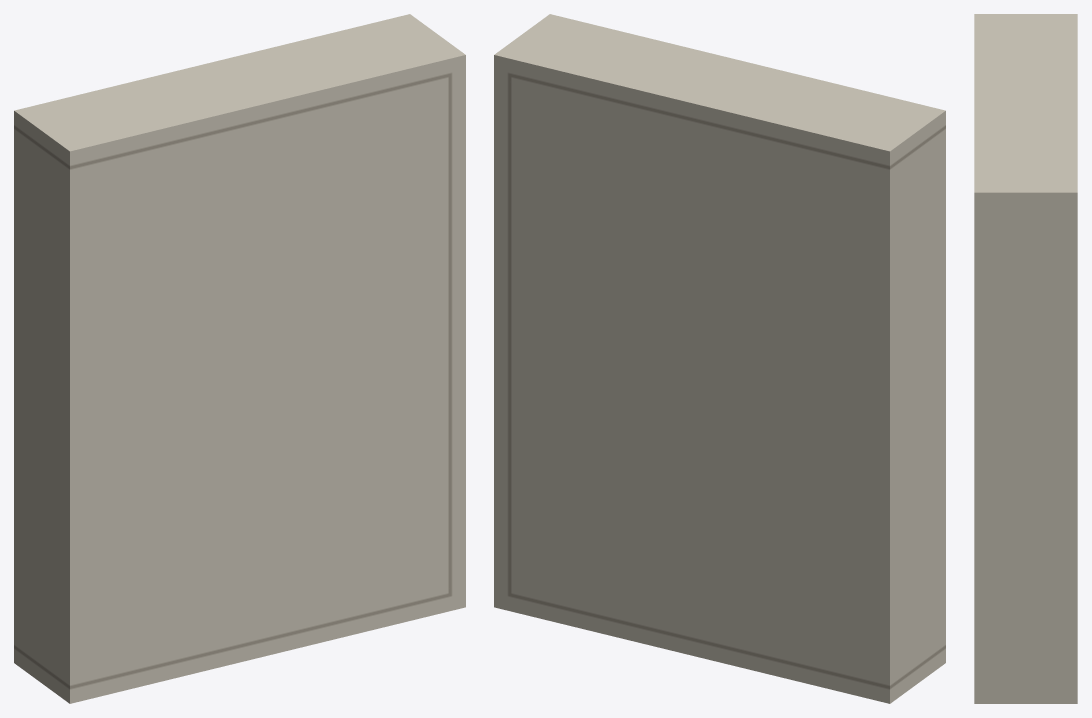
3 views of the same model, side by side, from view 1: azimuth 30°, elevation 25°; view 2: azimuth 150°, elevation 25°; view 3: azimuth 270°, elevation 25° (orthographic). The views are drawn at different scales.
Parts seen in each view (by area): view 1: gb_box_jp; view 2: gb_box_jp; view 3: gb_box_jp.
Part boxes in pixels (left/top/right/bottom): gb_box_jp: left=14, top=14, right=465, bottom=703; gb_box_jp: left=494, top=14, right=945, bottom=703; gb_box_jp: left=974, top=14, right=1077, bottom=703.
Size of the model in its own units: 0.09 by 0.12 by 0.022.
1 material, 1 textured.
